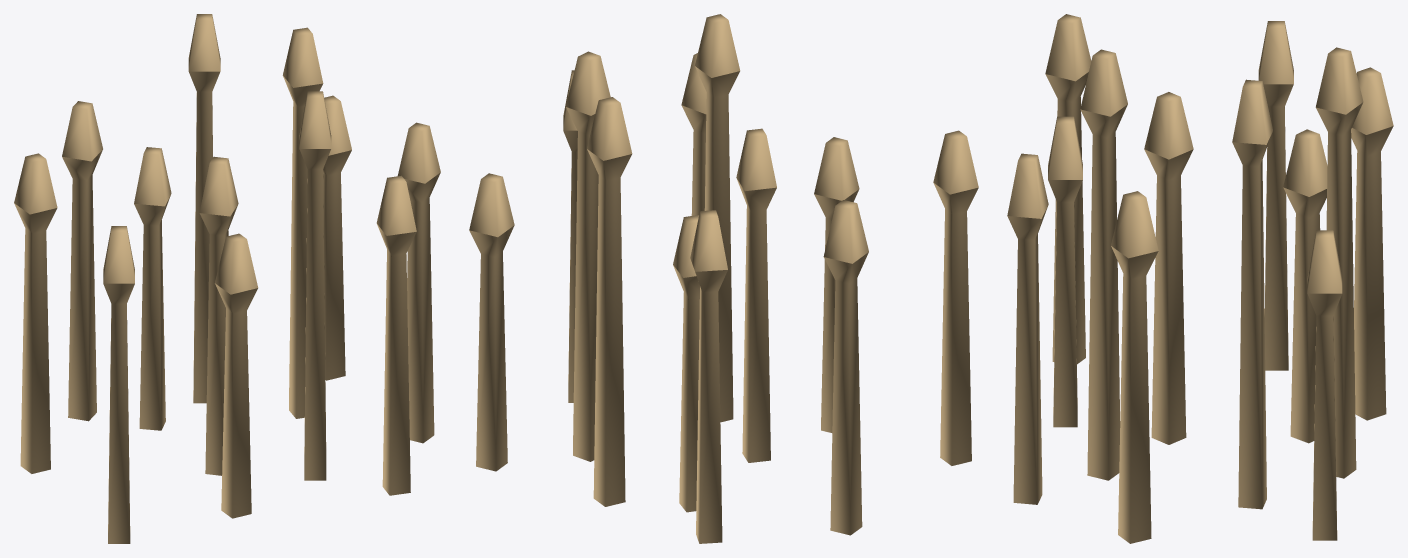
The model's file is crop_wheat.glb.
3 renders of one model, left to right at view 1: azimuth 30°, elevation 25°; view 2: azimuth 150°, elevation 25°; view 3: azimuth 270°, elevation 25°, orthographic. The views are drawn at different scales.
Visible parts, largest first — view 1: crop_wheat; view 2: crop_wheat; view 3: crop_wheat.
Part boxes in pixels (x1,y1,x2,y2): crop_wheat: [14, 14, 440, 543]; crop_wheat: [469, 14, 978, 543]; crop_wheat: [1007, 14, 1393, 543].
Bounding box in the file's own units: 0.5396 × 0.5349 × 0.4467.
